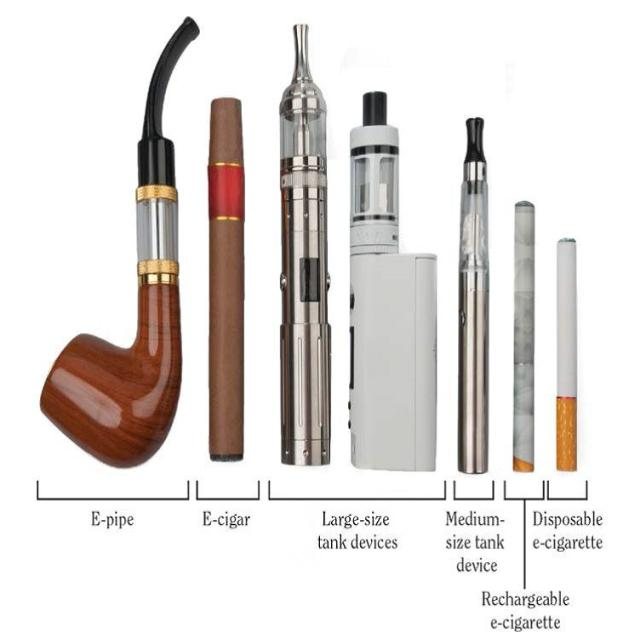Cigarette: (40, 17, 204, 470), (350, 91, 435, 471), (279, 25, 331, 467), (203, 94, 247, 462), (458, 120, 490, 474), (513, 199, 537, 476), (555, 240, 580, 473)
